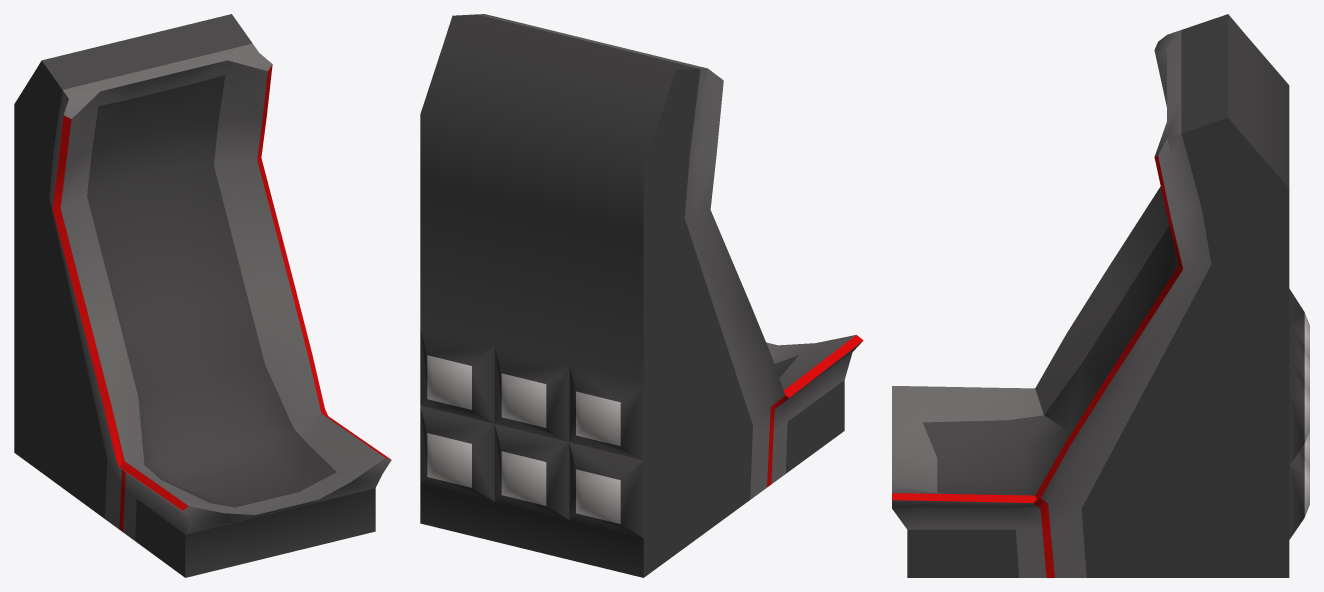
The model's file is SLMechatronics.glb.
3 views of the same model, side by side, from view 1: azimuth 30°, elevation 25°; view 2: azimuth 150°, elevation 25°; view 3: azimuth 270°, elevation 25° (orthographic). The views are drawn at different scales.
Visible parts, largest first — view 1: Cockpit; view 2: Cockpit; view 3: Cockpit.
Part boxes in pixels (x1,y1,x2,y2): Cockpit: (14,14,391,577); Cockpit: (420,14,863,577); Cockpit: (892,14,1309,577).
Bounding box in the file's own units: 0.659 × 1.24 × 1.02.
